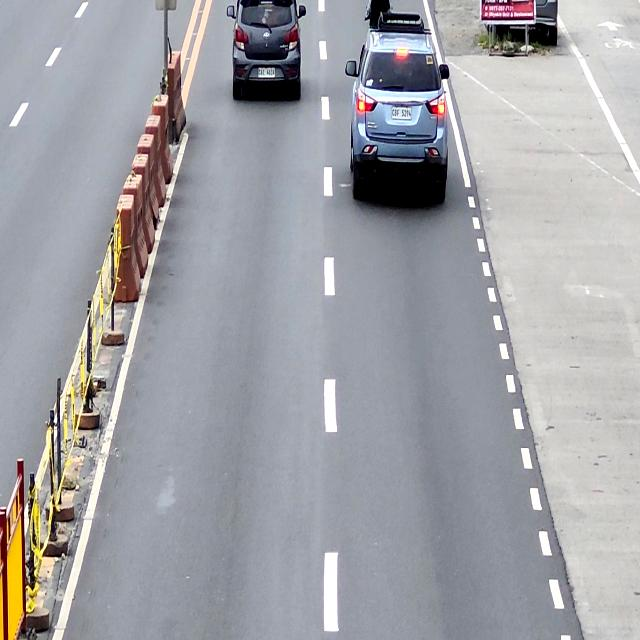Car: (346, 24, 451, 206), (226, 0, 307, 98)
License-Plate: (390, 106, 413, 120), (258, 66, 276, 78)
